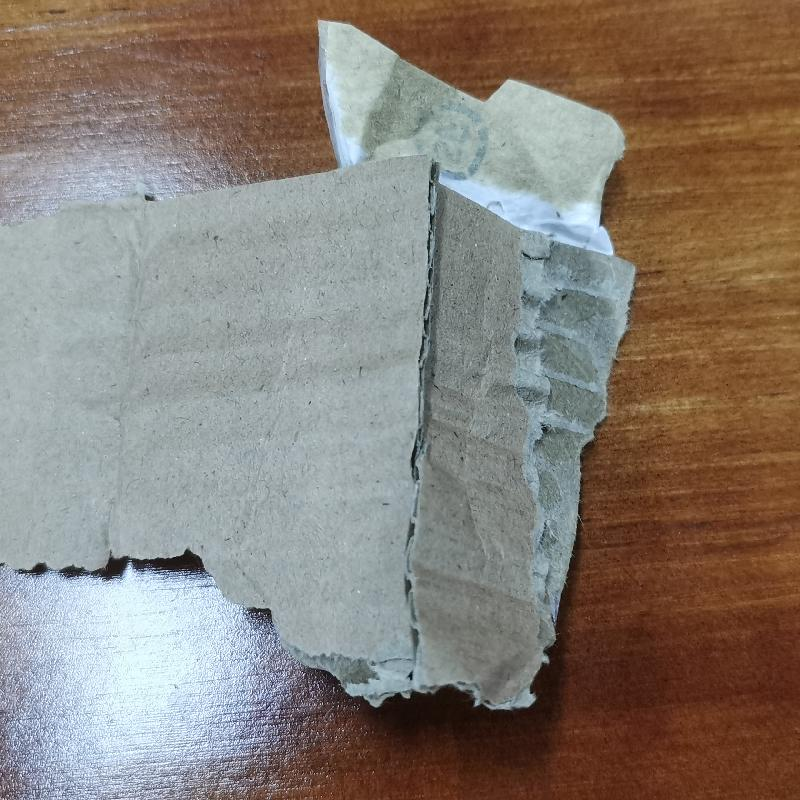boxes: (10, 32, 636, 716)
